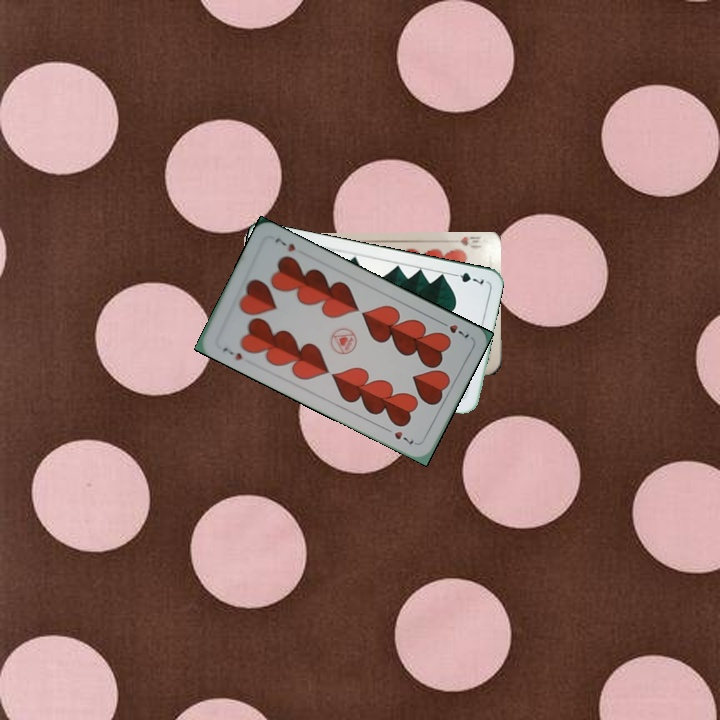G7: (447, 268, 486, 287)
H10: (456, 234, 484, 251)
H7: (435, 317, 472, 341), (218, 343, 245, 363)
